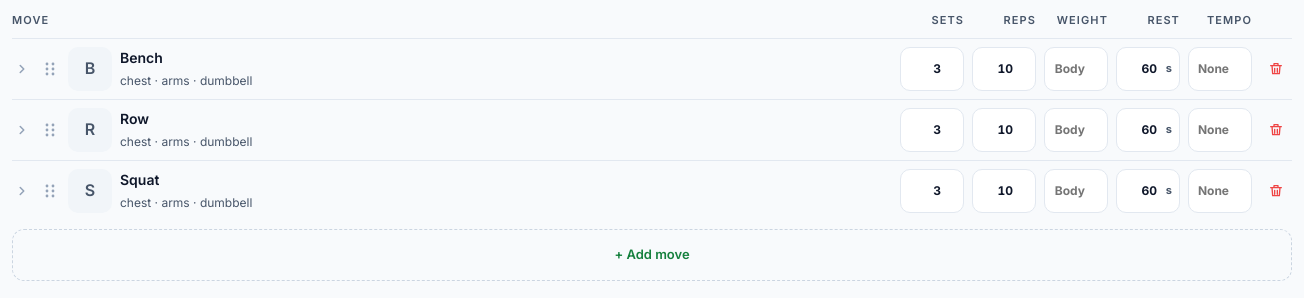
PlanMovesTableComponent › shows the unit inside a field that has a value
The image size is (1304, 298).
In the 1st field with placeholder "Body": (1076, 69) [1044,47,1108,91], type "20"
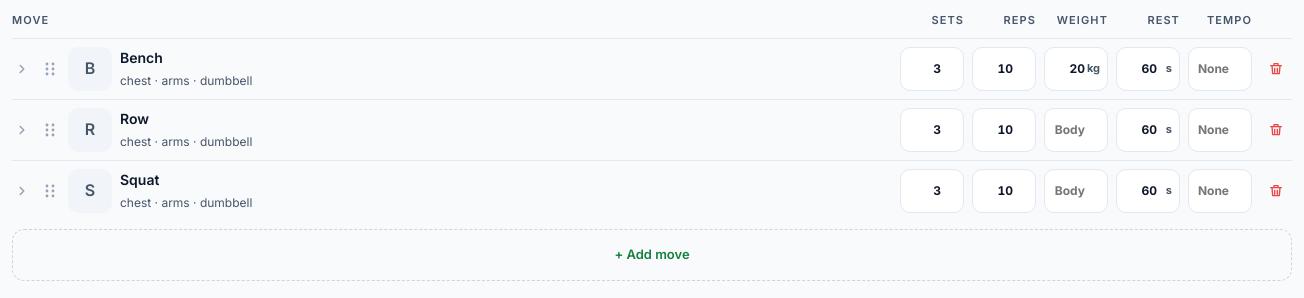
expect the text with class "unit" reads "kg": met, box [1087,61,1100,75]
